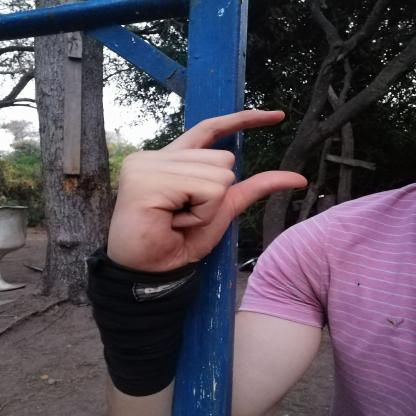DELL: (84, 100, 318, 290)
